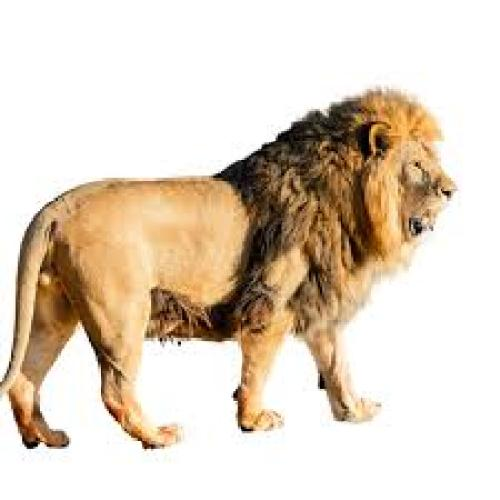lion-endangered: (14, 92, 452, 446)
